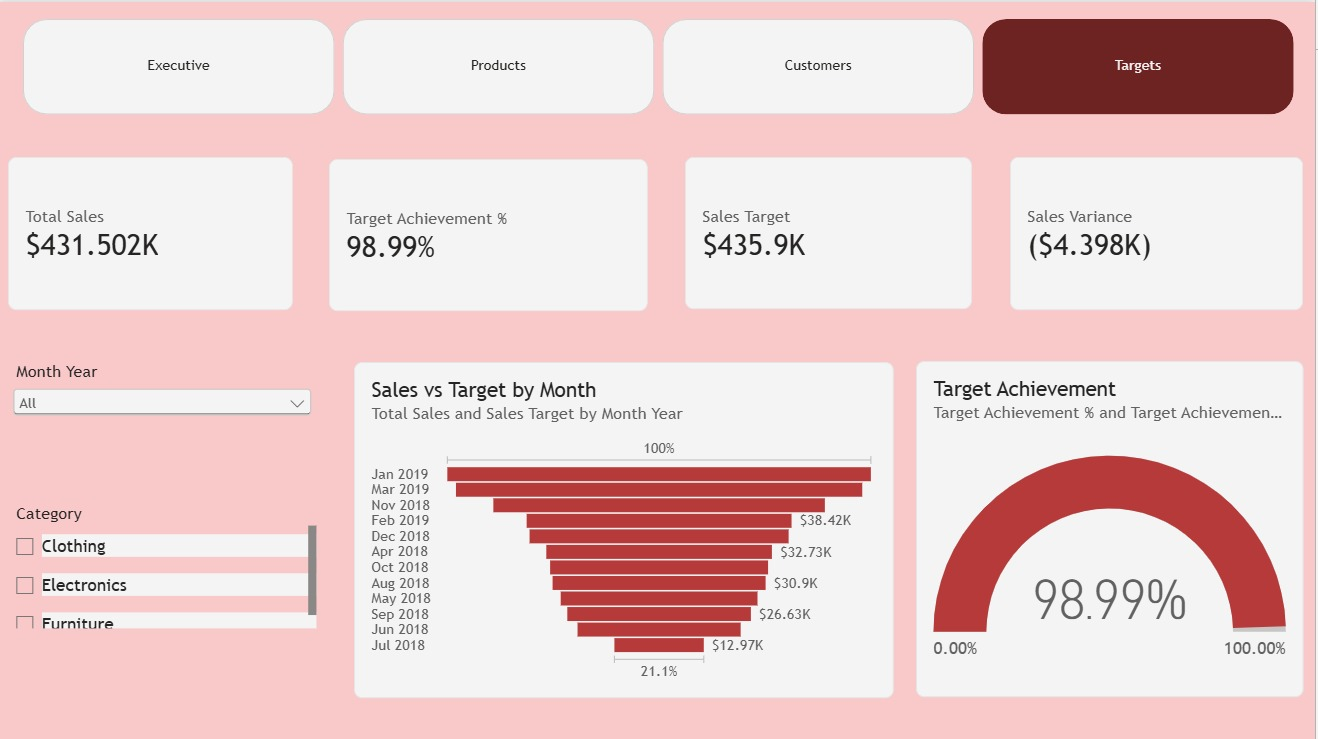

The dashboard page shown, as its layout file describes it:
{"tool":"powerbi","page":{"name":"Targets","canvas":[1280,720],"ordinal":3},"visuals":[{"type":"cardVisual","fields":{"Data":["Calendar.Total Sales"]},"box":[9,150.7,277.2,149.8],"z":0},{"type":"cardVisual","fields":{"Data":["Calendar.Sales Target"]},"box":[667.4,150.7,279.9,148],"z":1000},{"type":"cardVisual","fields":{"Data":["Calendar.Sales Variance"]},"box":[983.1,150.7,285.2,149.8],"z":2000},{"type":"cardVisual","fields":{"Data":["Calendar.Target Achievement %"]},"box":[321.1,152.5,310.4,148],"z":3000},{"type":"funnel","title":"Sales vs Target by Month","fields":{"Category":["Calendar.Month Year"],"Y":["Calendar.Total Sales"]},"box":[345.3,349.8,524.7,326.5],"z":4000},{"type":"gauge","title":"Target Achievement","fields":{"Y":["Calendar.Target Achievement %"]},"box":[891.6,348.9,376.7,327.4],"z":5000},{"type":"pageNavigator","box":[23.3,16.5,1236.2,93.4],"z":6000},{"type":"slicer","fields":{"Values":["Calendar.Month Year"]},"box":[8.8,350.2,299.6,116.7],"z":7000},{"type":"slicer","fields":{"Values":["Category.Category"]},"box":[8.8,488.3,299.6,120.6],"z":8000}]}

Visuals, with their boxes in screenshot pixels (x1, y1, x2, y2), scaled from the page's 1280x720 canvas onto the 1318x739 screenshot:
cardVisual - Calendar.Total Sales: (9,155,295,308)
cardVisual - Calendar.Sales Target: (687,155,975,307)
cardVisual - Calendar.Sales Variance: (1012,155,1306,308)
cardVisual - Calendar.Target Achievement %: (331,157,650,308)
"Sales vs Target by Month" funnel: (356,359,896,694)
"Target Achievement" gauge: (918,358,1306,694)
pageNavigator: (24,17,1297,113)
slicer - Calendar.Month Year: (9,359,318,479)
slicer - Category.Category: (9,501,318,625)
